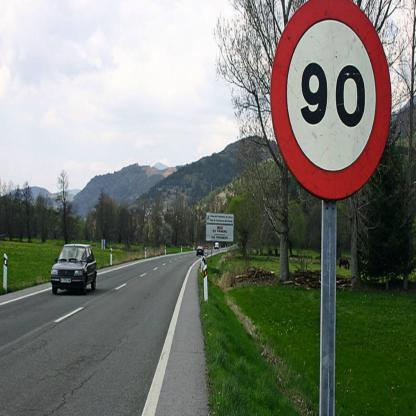road_sign: (271, 0, 391, 200)
